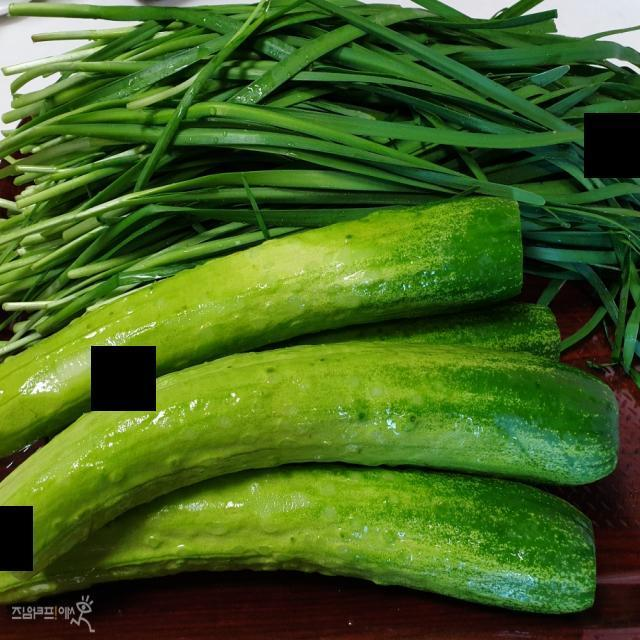cucumber: (0, 326, 618, 632), (0, 194, 538, 476)
